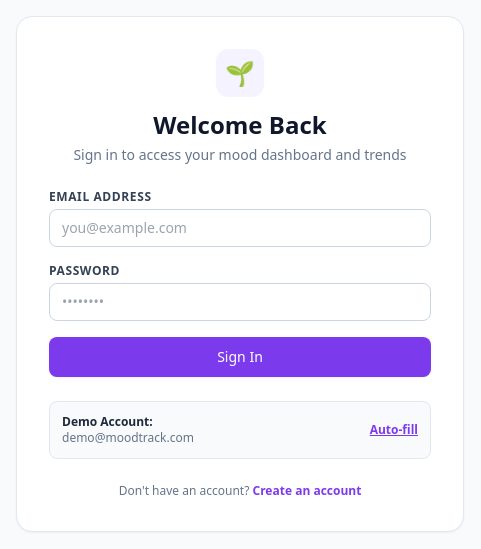
Test: Frontend: Authentication Pages › LoginPage › populates demo credentials when clicking Auto-fill
Click the button "Auto-fill". click: (394, 430)
box: [370, 422, 418, 438]
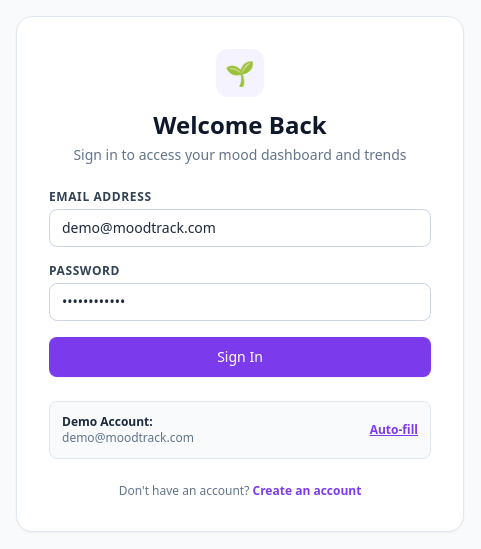
Expected: the field with placeholder "you@example.com" holds "demo@moodtrack.com", [49, 209, 431, 247]
Expected: the password field with placeholder "••••••••" holds "Password123!", [49, 283, 431, 321]
